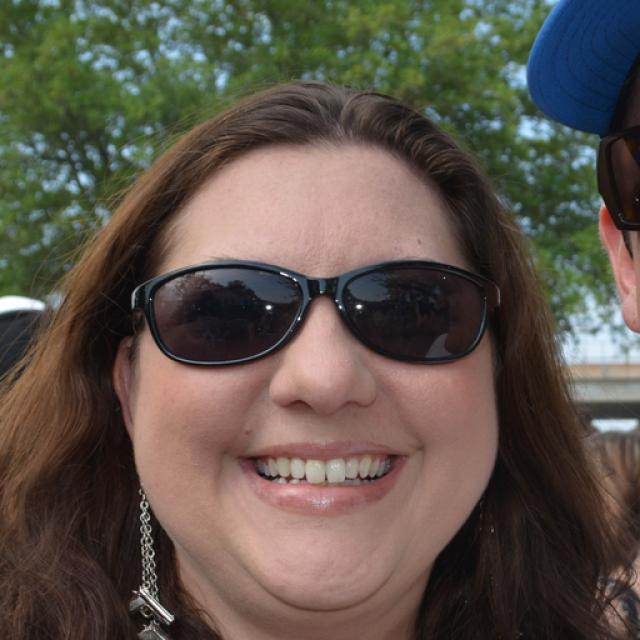Acne: (238, 426, 255, 441)
